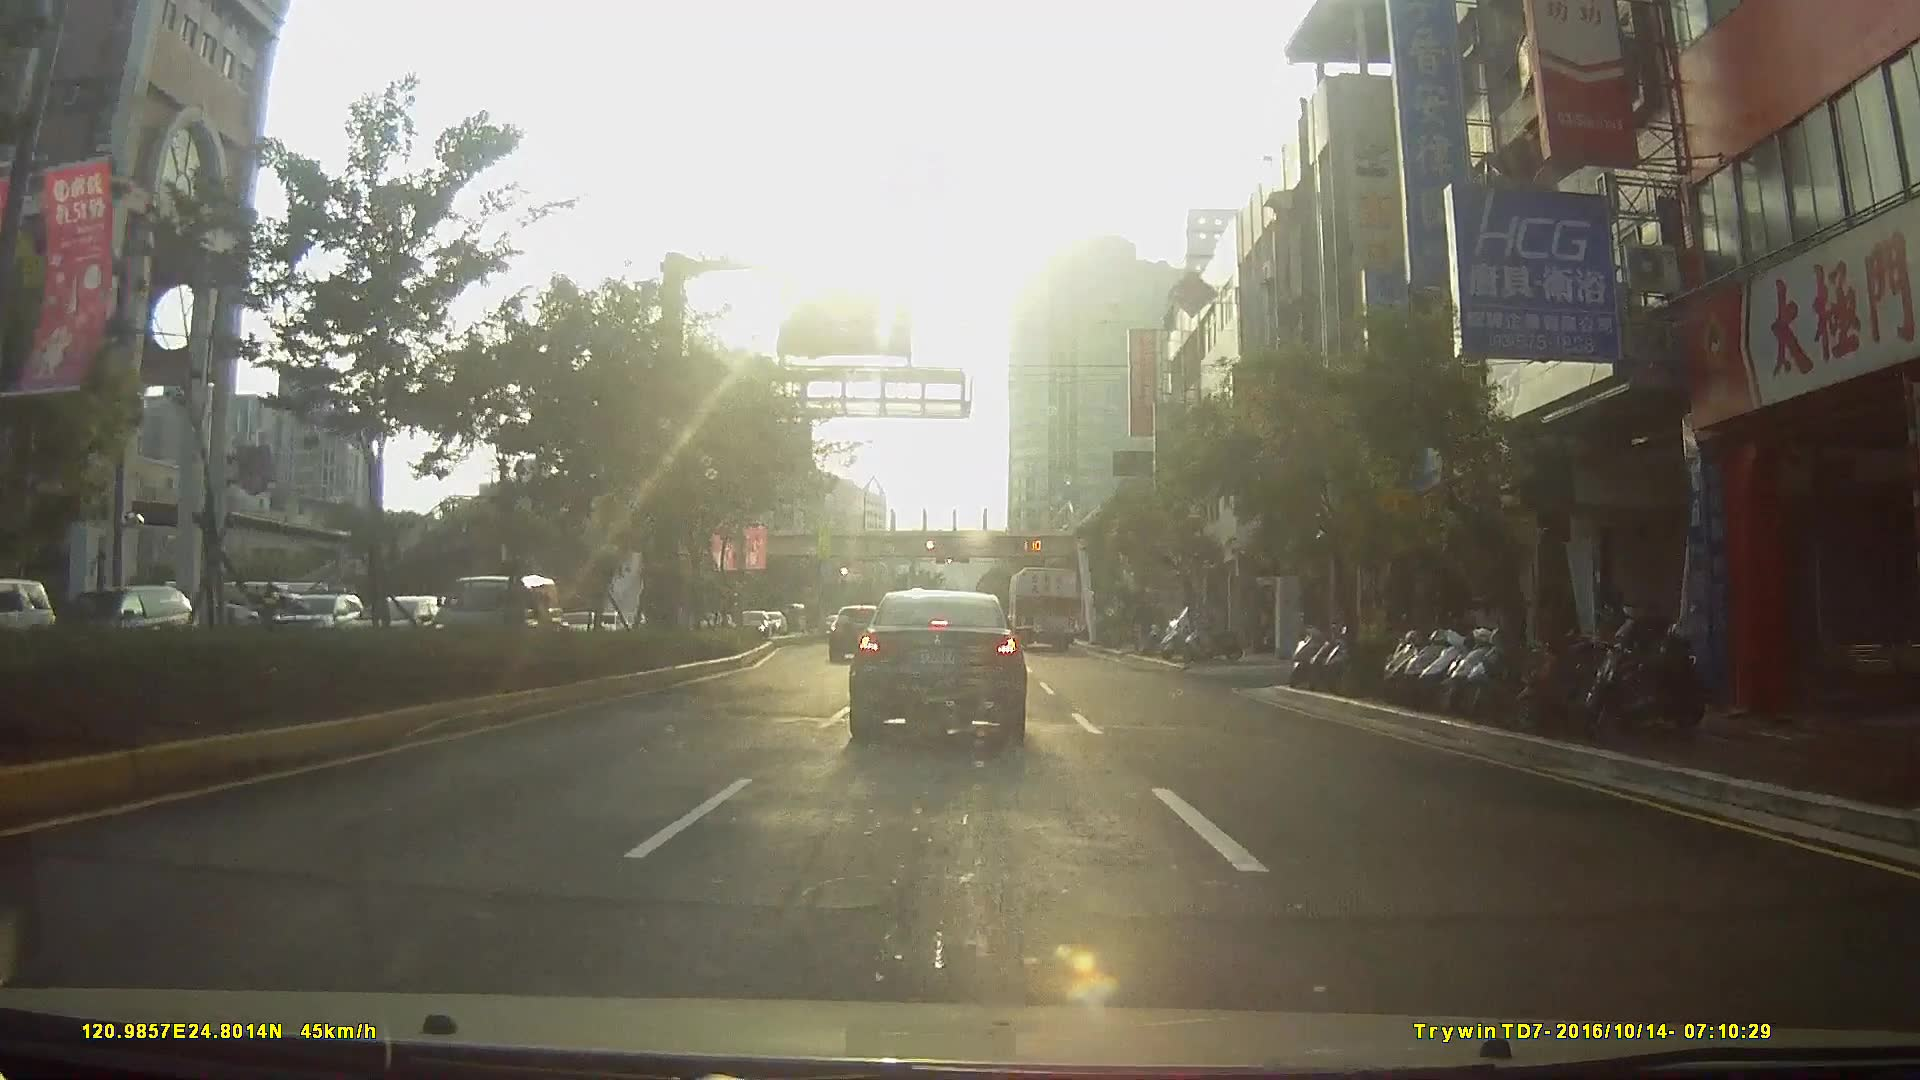vehicle: (847, 591, 1027, 752), (429, 576, 566, 654), (47, 584, 189, 659), (1004, 566, 1079, 655), (825, 603, 887, 663), (0, 579, 47, 651), (728, 611, 770, 645)
